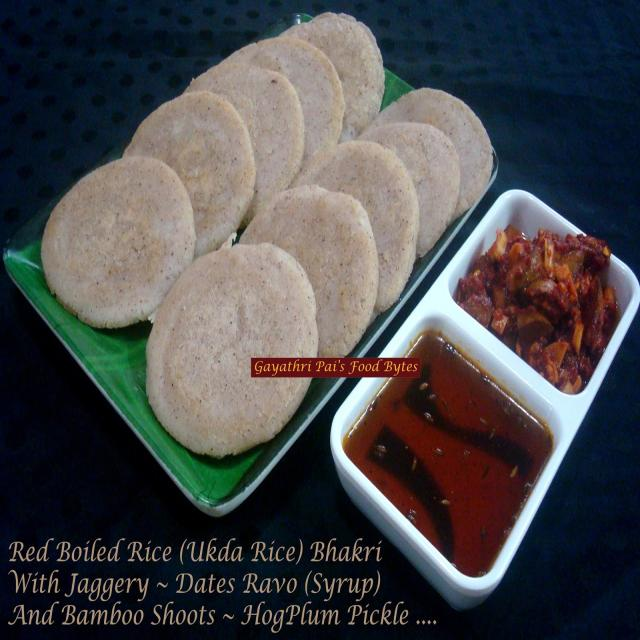IDLI: (146, 243, 316, 455), (124, 90, 254, 253), (380, 88, 494, 214), (284, 13, 384, 134)
